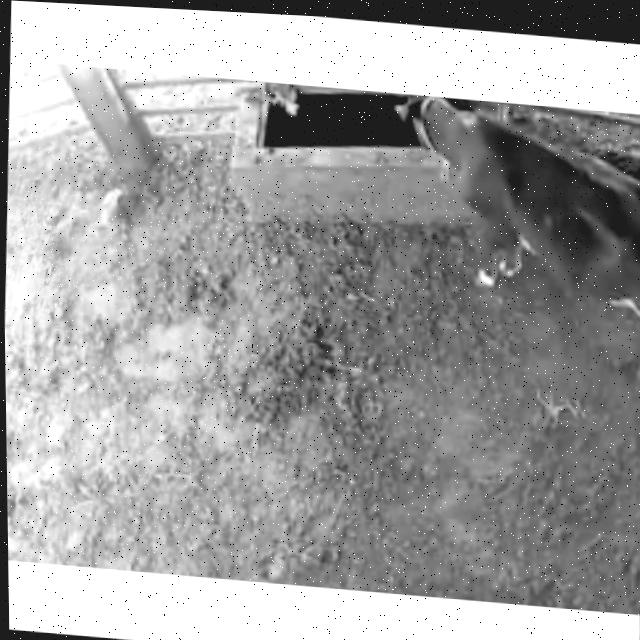drink: (365, 89, 515, 202)
